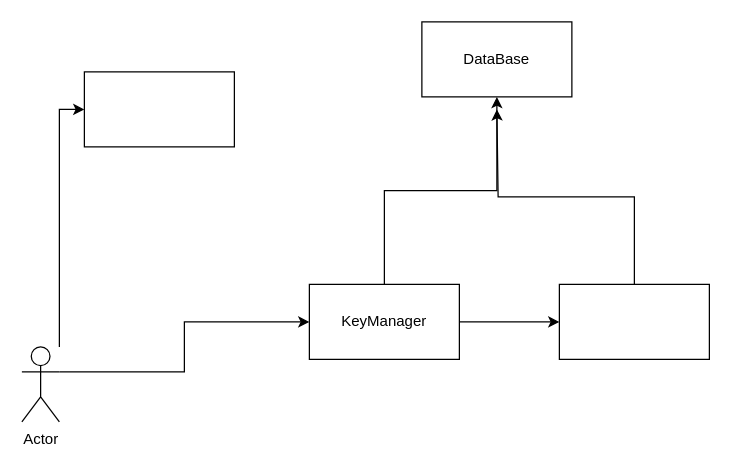
The diagram is 731 pixels wide and 470 high, and some of its shapes have lost their labels. The shapes that lost their labels are listed below. From the top down, each one's box as (x1, y1, x2, y2) in pixels, then its label:
(83, 71, 234, 147): User Detail
(558, 283, 709, 359): KeyBundle
